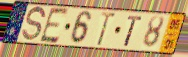6: (68, 10, 93, 47)
8: (142, 15, 165, 50)
E: (38, 7, 71, 46)
S: (20, 5, 47, 43)
T: (95, 11, 118, 48), (122, 14, 144, 48)
